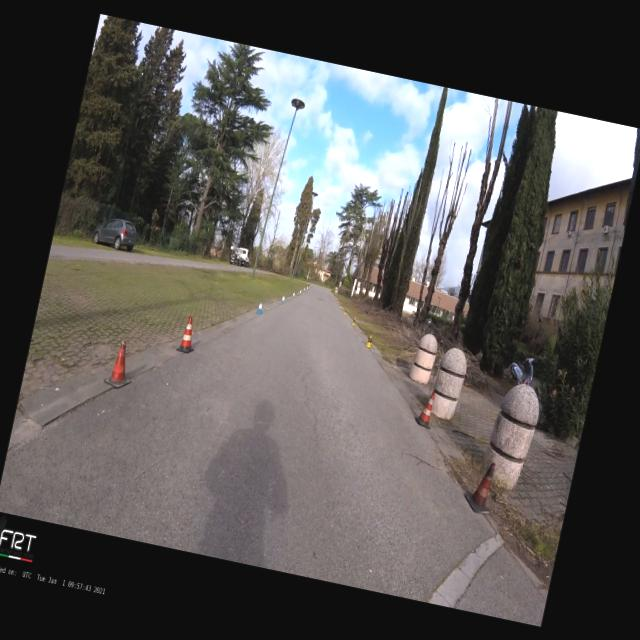blue_cone: (256, 300, 264, 314), (281, 295, 285, 303), (292, 291, 296, 297), (299, 289, 301, 293)
large_orange_cone: (462, 458, 499, 514), (102, 337, 139, 390), (176, 314, 200, 354), (413, 388, 437, 428)
yellow_cone: (365, 334, 373, 347), (350, 316, 356, 326), (343, 308, 347, 314), (339, 302, 342, 308), (336, 298, 338, 302)
